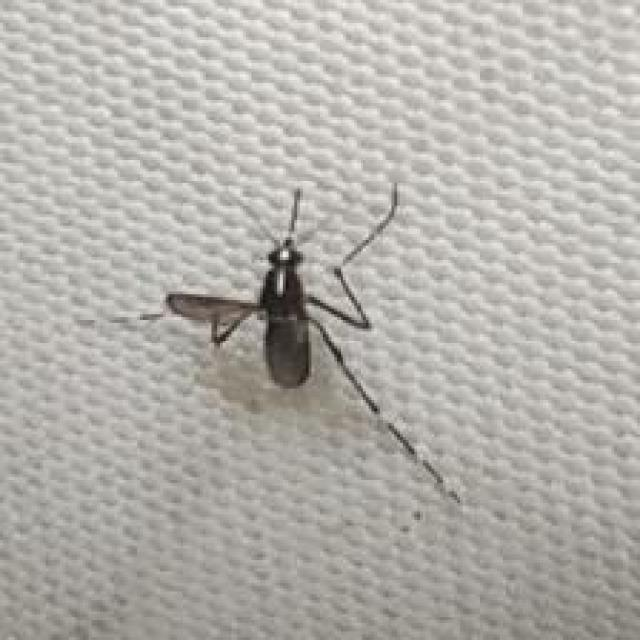Aedes albopictus: (107, 180, 464, 506)
